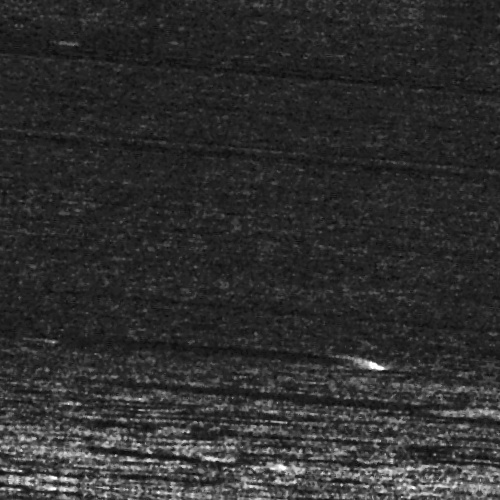object: (399, 385, 500, 396), (359, 346, 412, 357), (235, 455, 298, 464)
shadow: (60, 346, 386, 357), (157, 385, 477, 396), (95, 455, 266, 464), (437, 427, 500, 434), (463, 392, 500, 401)
